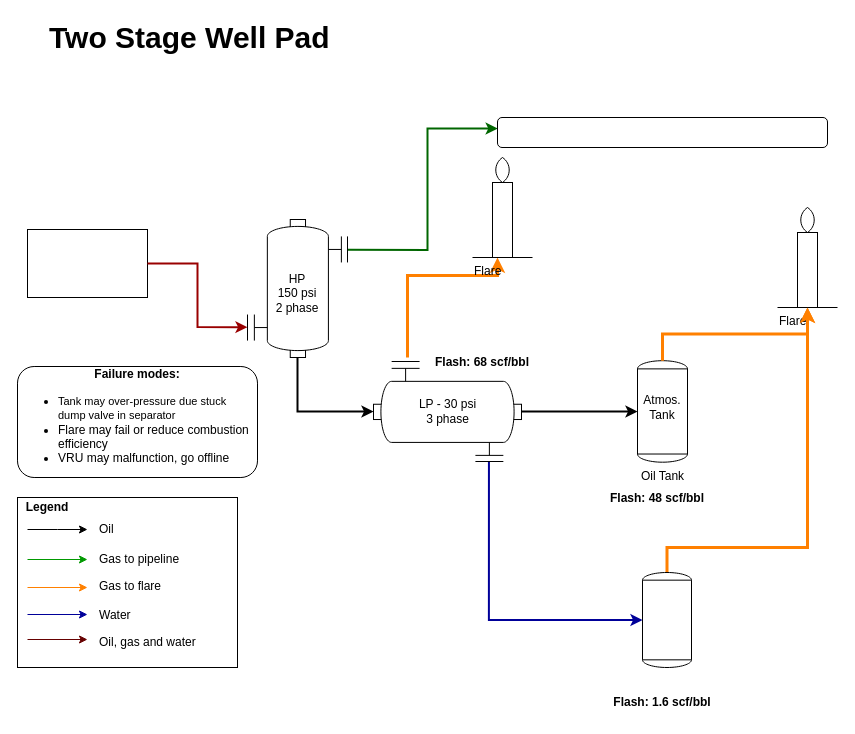
Image size: 855x734. Some labels were removed from this diagram. The shapes that lost their labels are listed below. From the top down, each one's box as (x1, y1, x2, y2) in pixels, then its label:
(496, 116, 828, 148): Pipeline-150 psi
(26, 228, 148, 298): Well Plunger Lift 1 bbl/lift 39.3 MSCF/bbl 57.6 API
(642, 572, 692, 668): Water Tank
